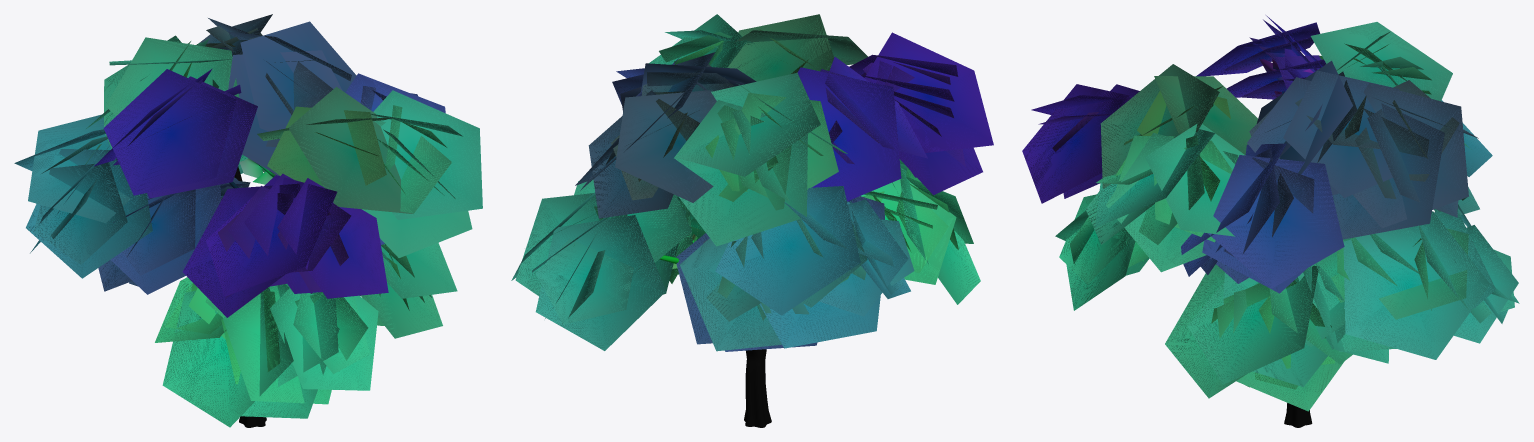
The model's file is arbol1.fbx.
3 renders of one model, left to right at view 1: azimuth 30°, elevation 25°; view 2: azimuth 150°, elevation 25°; view 3: azimuth 270°, elevation 25°, orthographic.
Visible parts, largest first — view 1: Tree_2, Tree_1; view 2: Tree_2, Tree_0; view 3: Tree_2, Tree_0.
Boxes of the visible parts, <box> form: Tree_2: <box>14,14,482,427</box>; Tree_1: <box>239,158,360,295</box>; Tree_2: <box>511,14,993,351</box>; Tree_0: <box>659,255,771,427</box>; Tree_2: <box>1022,15,1519,411</box>; Tree_0: <box>1092,91,1312,427</box>.
Bounding box in the file's own units: 229 × 226 × 278.
